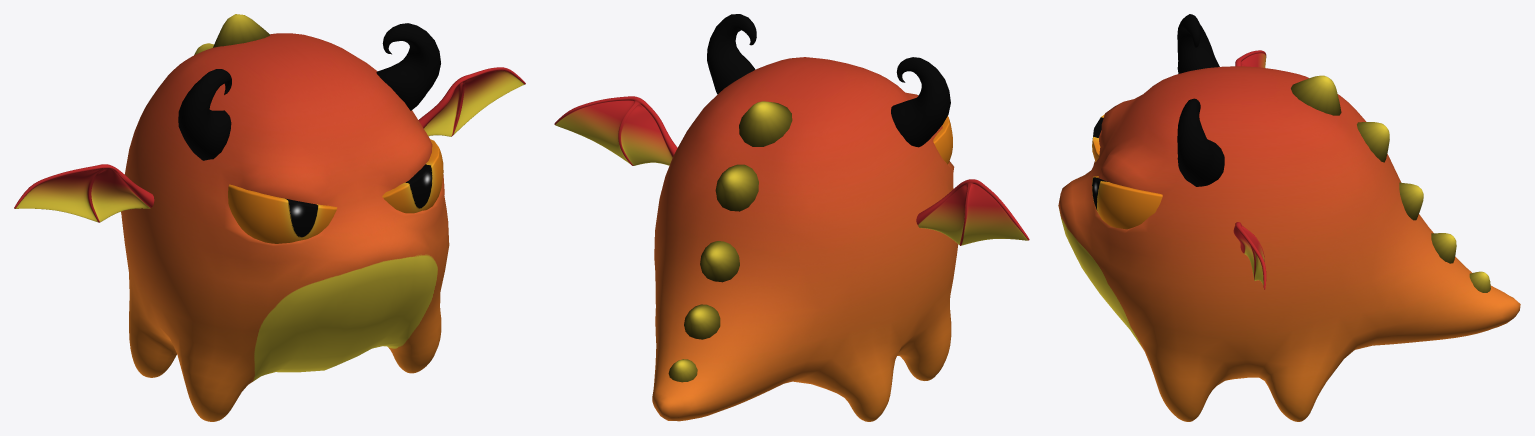
File: dragon_RED.fbx
3 views of the same model, side by side, from view 1: azimuth 30°, elevation 25°; view 2: azimuth 150°, elevation 25°; view 3: azimuth 270°, elevation 25° (orthographic). The views are drawn at different scales.
Visible parts, largest first — view 1: dragon_RED; view 2: dragon_RED; view 3: dragon_RED.
Boxes of the visible parts, <box> form: dragon_RED: <box>14,14,525,421</box>; dragon_RED: <box>554,14,1029,421</box>; dragon_RED: <box>1058,14,1520,421</box>.
Size of the model in its own units: 25.51 by 16.54 by 21.82.
5 materials, 4 textured.
